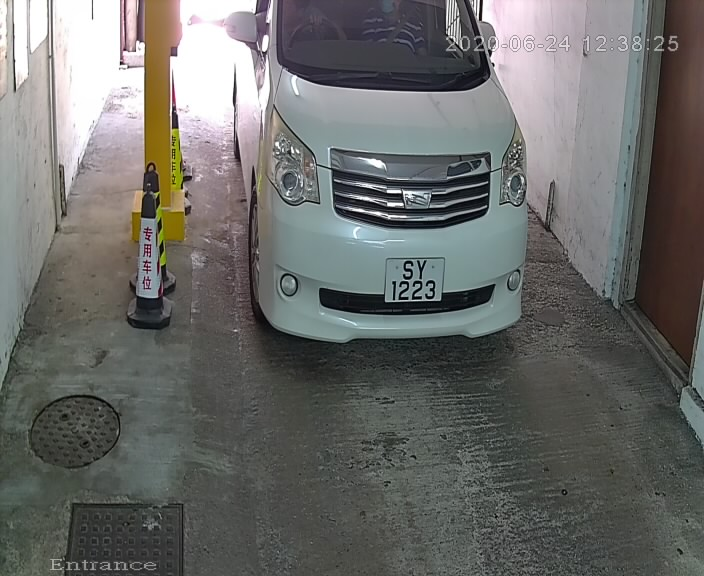Car: (213, 1, 539, 372)
License Plate: (384, 254, 450, 307)
